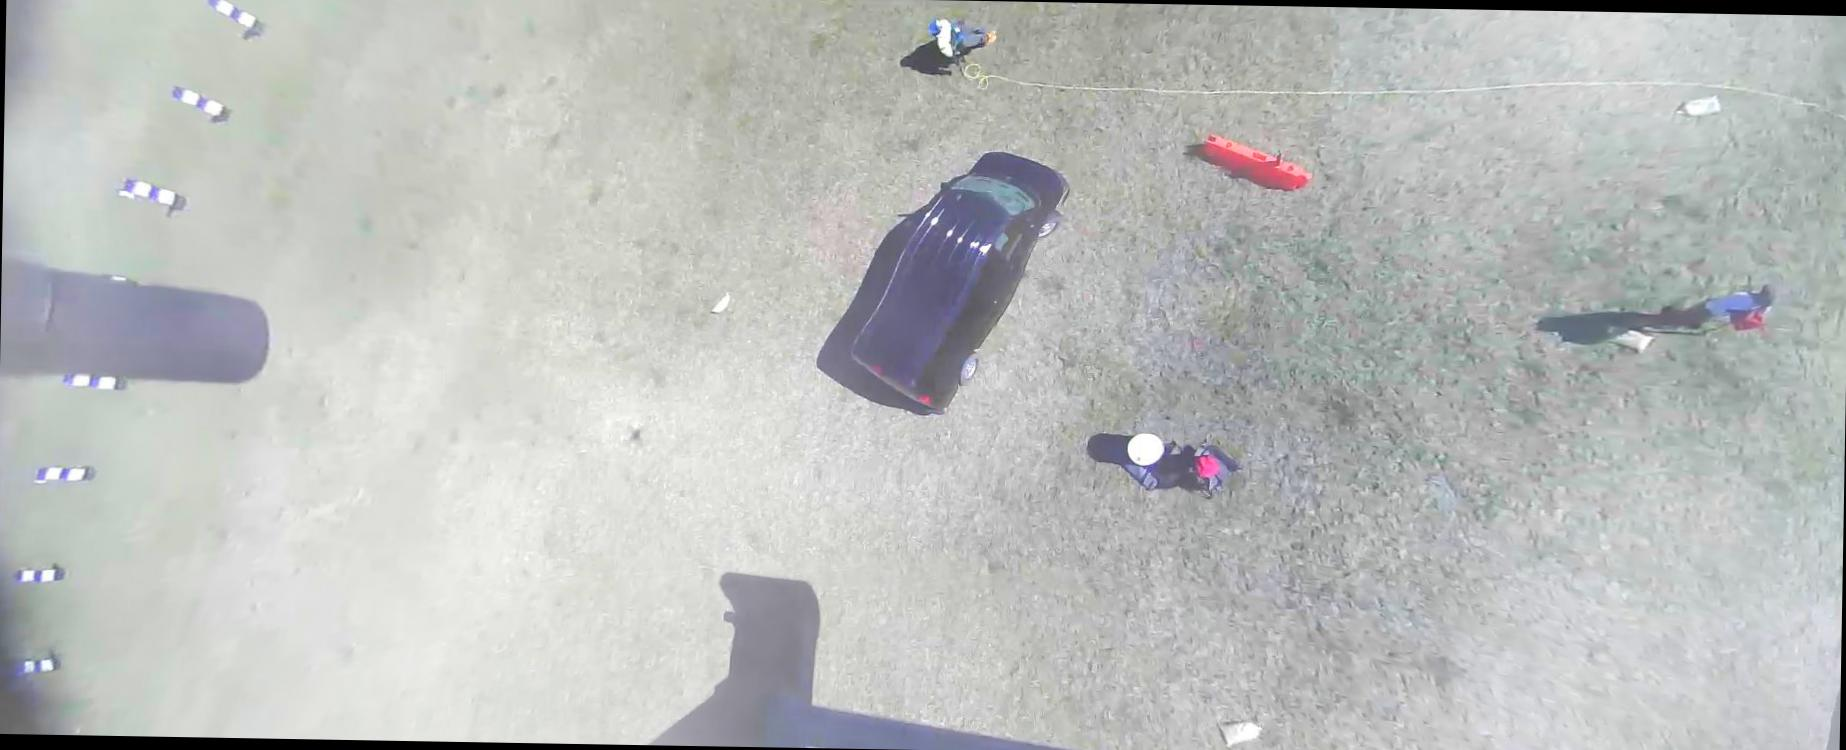vehicle: (849, 150, 1073, 418)
